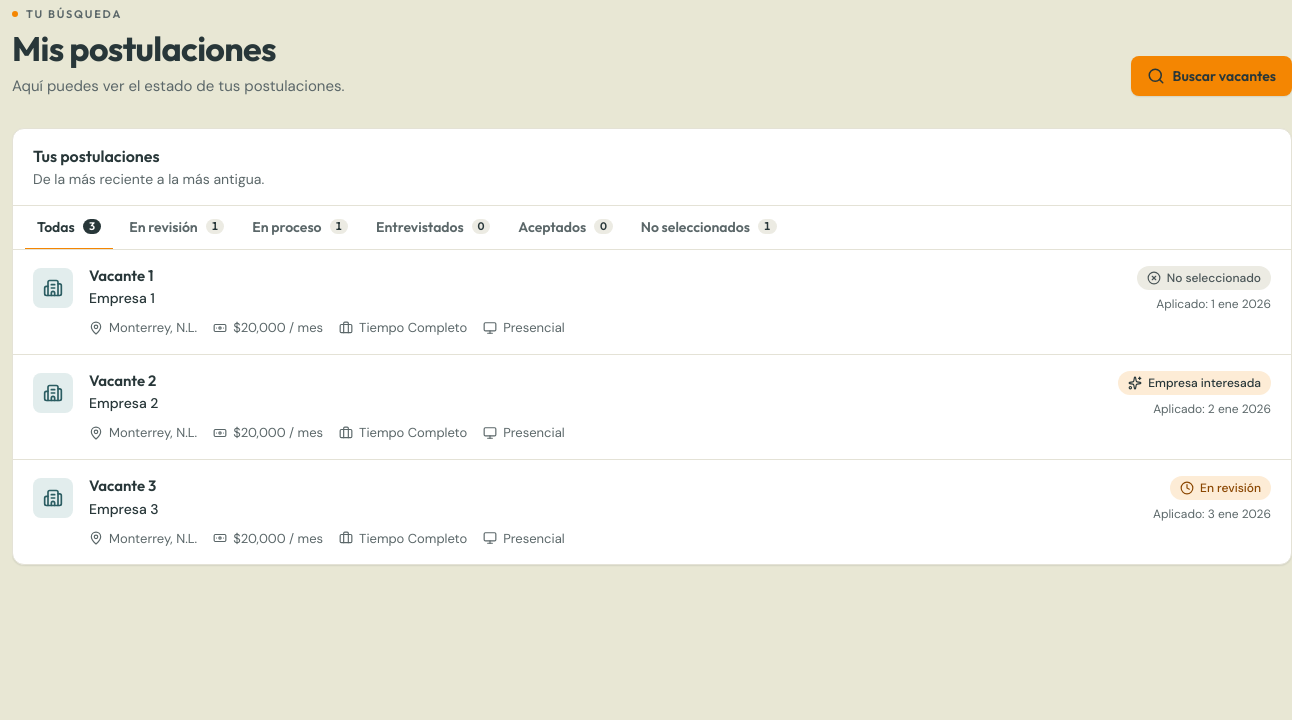
Test: /my-applications › VAC-016: un estado discarded se lee "No seleccionado" y cuenta en su filtro
Check: the heading "Vacante 1" is shown, box [89,266,154,285]
Check: the text "No seleccionado" is shown, box [1167,270,1261,286]
Click the tab "No seleccionados 1" at (709, 228), box [629,206,788,250]
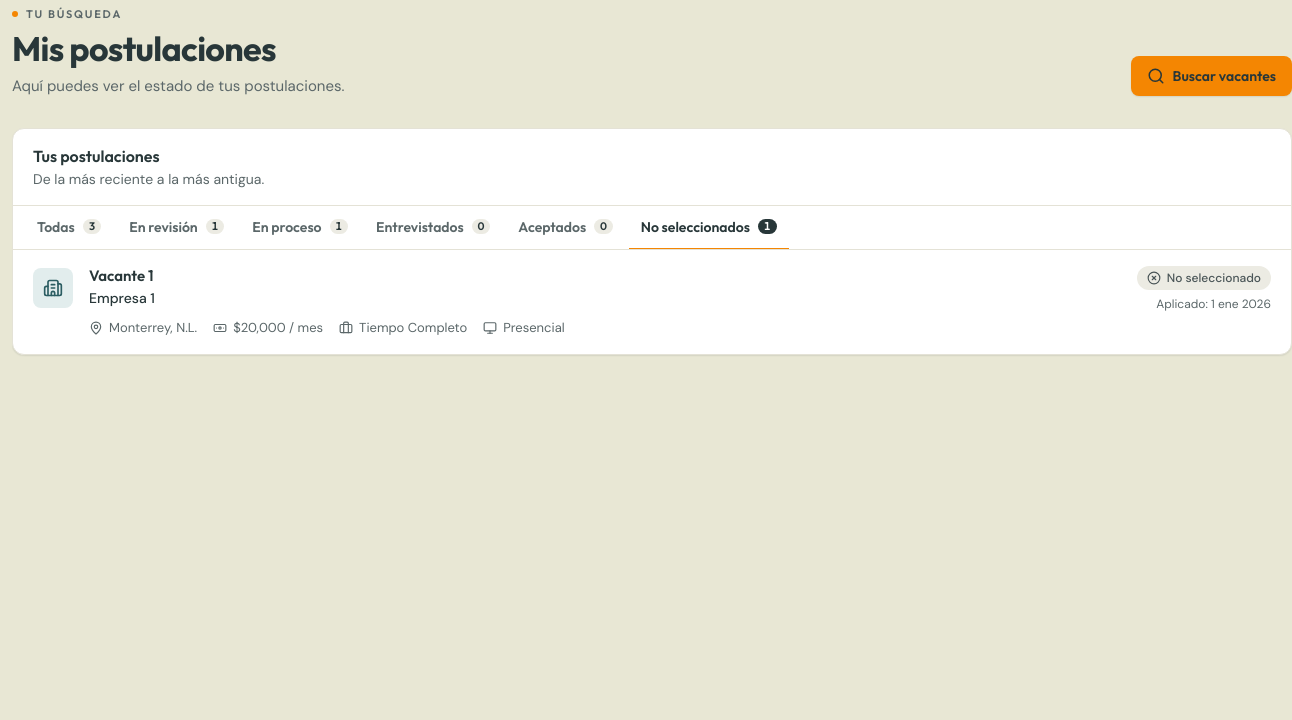
Check: the heading "Vacante 1" is shown, box [89,266,154,285]
Check: the heading "Vacante 2" is gone
Check: the heading "Vacante 3" is gone
